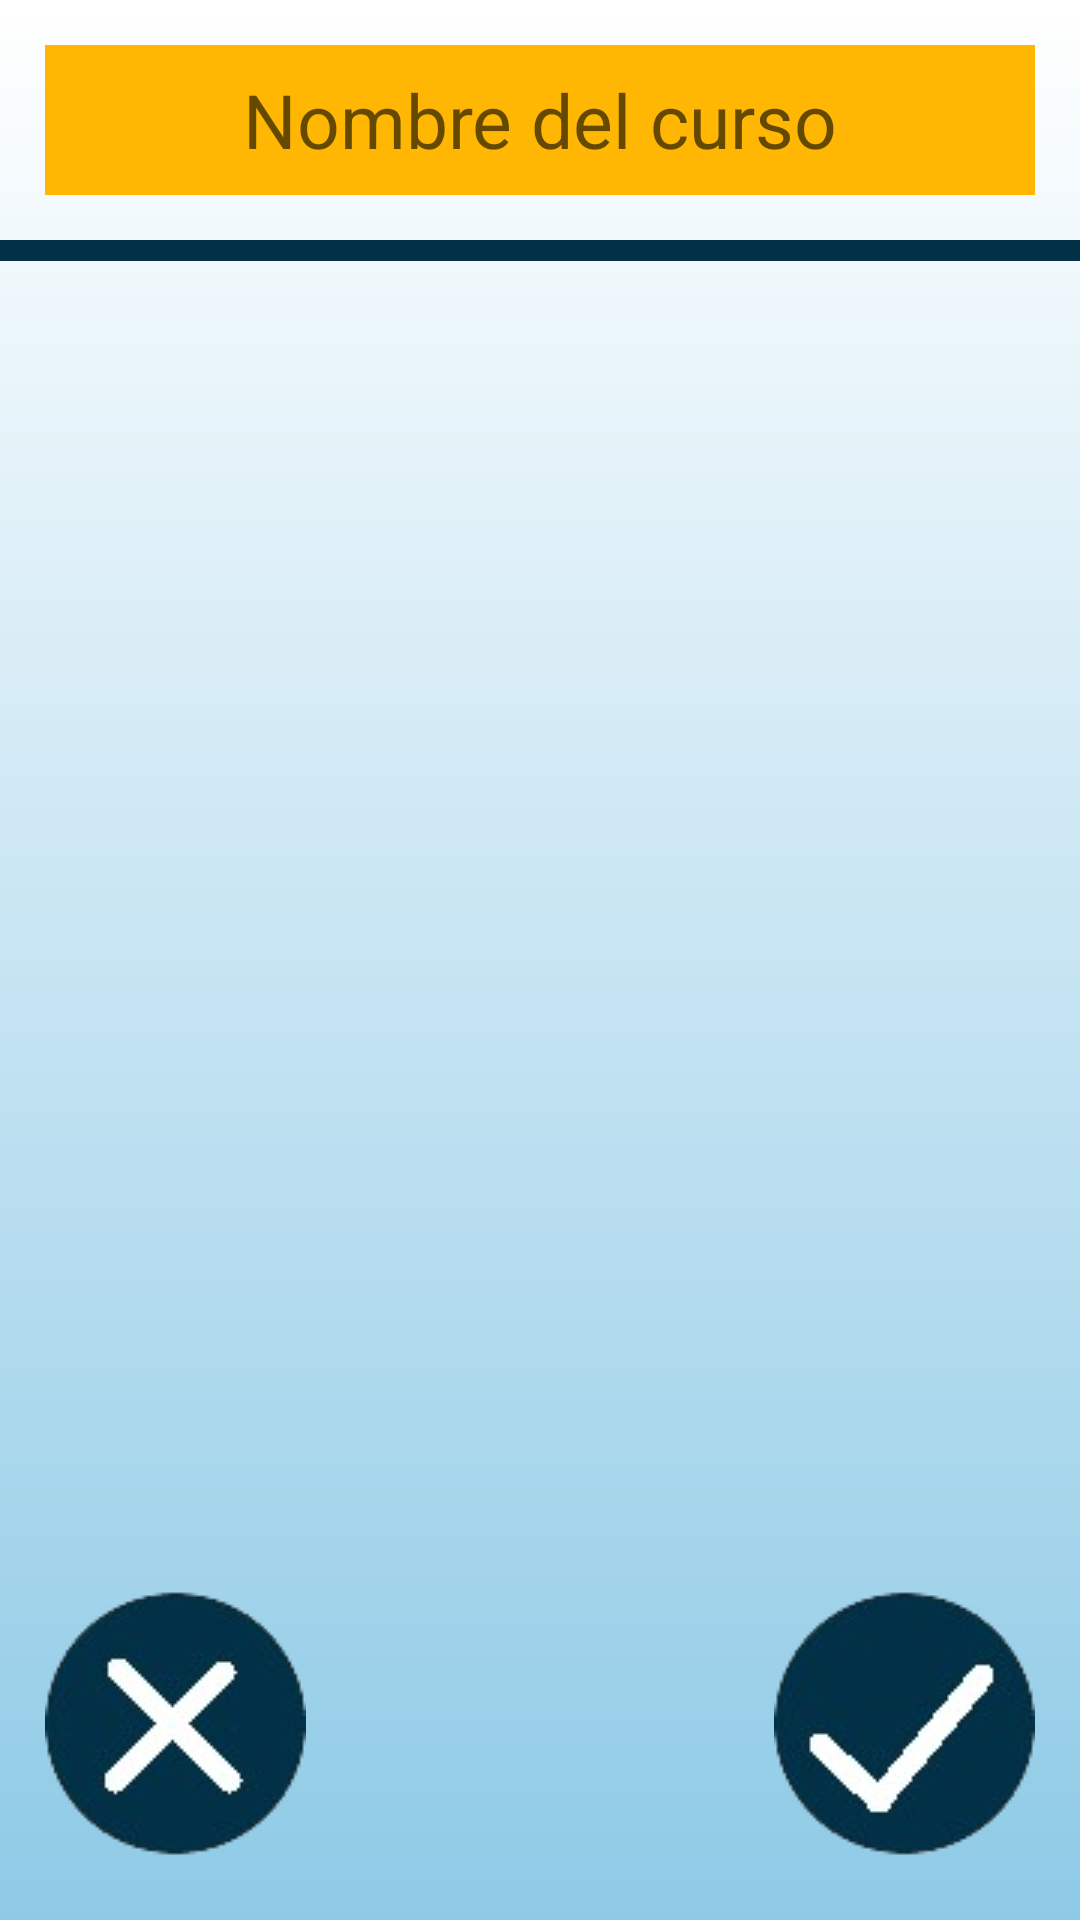

Locate icon controls on the screen. Image size 1080*1920, boxes as (x1, y1, x2, y2).
cancel: (45, 1592, 306, 1855)
check: (774, 1592, 1035, 1855)
